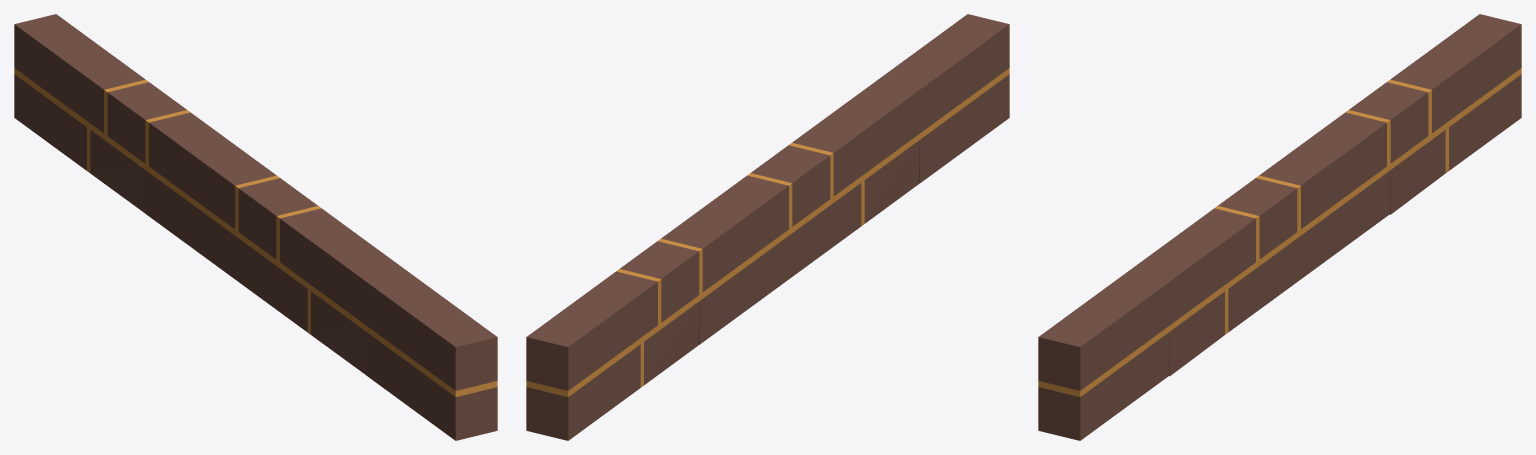
The model's file is model-triangulated.obj.
3 renders of one model, left to right at view 1: azimuth 30°, elevation 25°; view 2: azimuth 150°, elevation 25°; view 3: azimuth 330°, elevation 25°, orthographic.
Visible parts, largest first — view 1: group1148108872, group997312135, group534291549, group805823538, group1448565537, group505231499, group1547201179, group830981041, group2124062672, group1744008141, group1699511663, group1138848981 (+5 smaller); view 2: group1148108872, group997312135, group534291549, group1744008141, group805823538, group1448565537, group505231499, group1547201179, group830981041, group2124062672, group1699511663, group846605629 (+5 smaller); view 3: group1148108872, group997312135, group534291549, group805823538, group1448565537, group505231499, group1547201179, group830981041, group2124062672, group1744008141, group1699511663, group846605629 (+5 smaller).
Part boxes in pixels (bbox=[...]): group1148108872: bbox=[14, 14, 145, 132]; group997312135: bbox=[280, 208, 407, 324]; group534291549: bbox=[149, 112, 276, 228]; group805823538: bbox=[404, 299, 497, 390]; group1448565537: bbox=[366, 332, 497, 440]; group505231499: bbox=[145, 170, 234, 278]; group1547201179: bbox=[107, 82, 186, 163]; group830981041: bbox=[238, 178, 317, 259]; group2124062672: bbox=[366, 271, 445, 352]; group1744008141: bbox=[14, 74, 86, 170]; group1699511663: bbox=[235, 236, 307, 332]; group1138848981: bbox=[90, 130, 145, 212]; group1148108872: bbox=[526, 271, 657, 390]; group997312135: bbox=[792, 79, 919, 196]; group534291549: bbox=[661, 175, 788, 291]; group1744008141: bbox=[526, 344, 640, 440]; group805823538: bbox=[916, 14, 1009, 105]; group1448565537: bbox=[919, 74, 1009, 183]; group505231499: bbox=[698, 236, 788, 344]; group1547201179: bbox=[620, 241, 699, 322]; group830981041: bbox=[751, 145, 830, 226]; group2124062672: bbox=[878, 52, 957, 132]; group1699511663: bbox=[789, 183, 861, 278]; group846605629: bbox=[864, 140, 919, 223]; group1148108872: bbox=[1390, 14, 1521, 132]; group997312135: bbox=[1128, 208, 1255, 324]; group534291549: bbox=[1259, 112, 1386, 228]; group805823538: bbox=[1038, 299, 1131, 390]; group1448565537: bbox=[1038, 332, 1169, 440]; group505231499: bbox=[1301, 170, 1390, 278]; group1547201179: bbox=[1349, 82, 1428, 163]; group830981041: bbox=[1218, 178, 1297, 259]; group2124062672: bbox=[1090, 271, 1169, 352]; group1744008141: bbox=[1449, 74, 1521, 170]; group1699511663: bbox=[1228, 236, 1300, 332]; group846605629: bbox=[1169, 291, 1224, 376].
Bounding box in the file's own units: 0.071 × 0.1509 × 1.28.
